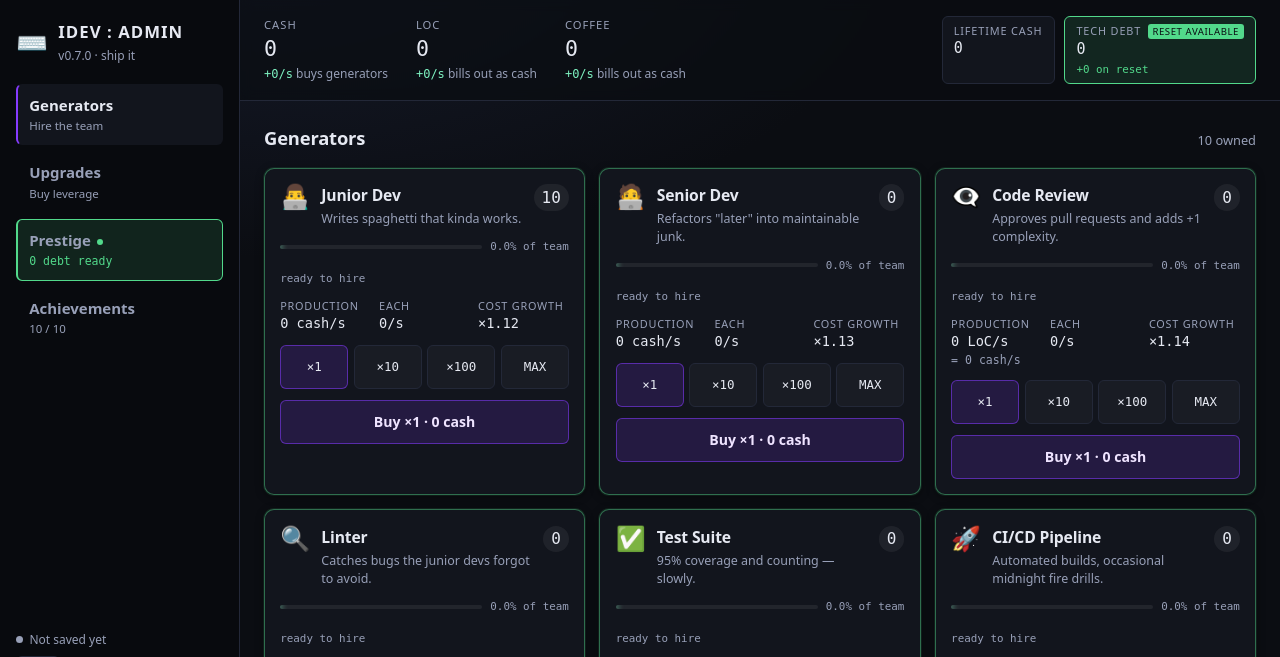
Test: App – prestige flow › lists permanent upgrade tiers with their costs
What coordinates should you click on to do the following:
click the button "Prestige 0 debt ready"
I would click on:
 (120, 250)
Its box is left=16, top=219, right=223, bottom=280.
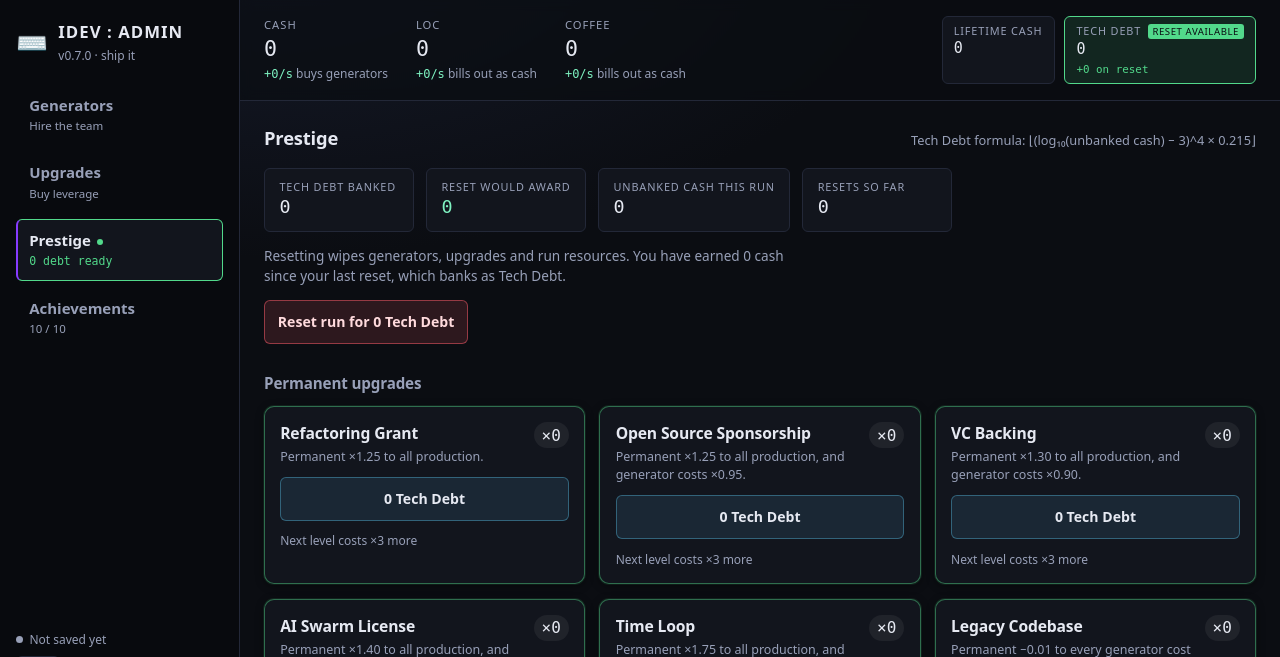
Expected: the text "Tech Debt" is shown, left=1076, top=23, right=1141, bottom=38
Result: the heading "Refactoring Grant" is shown at left=280, top=422, right=418, bottom=444
